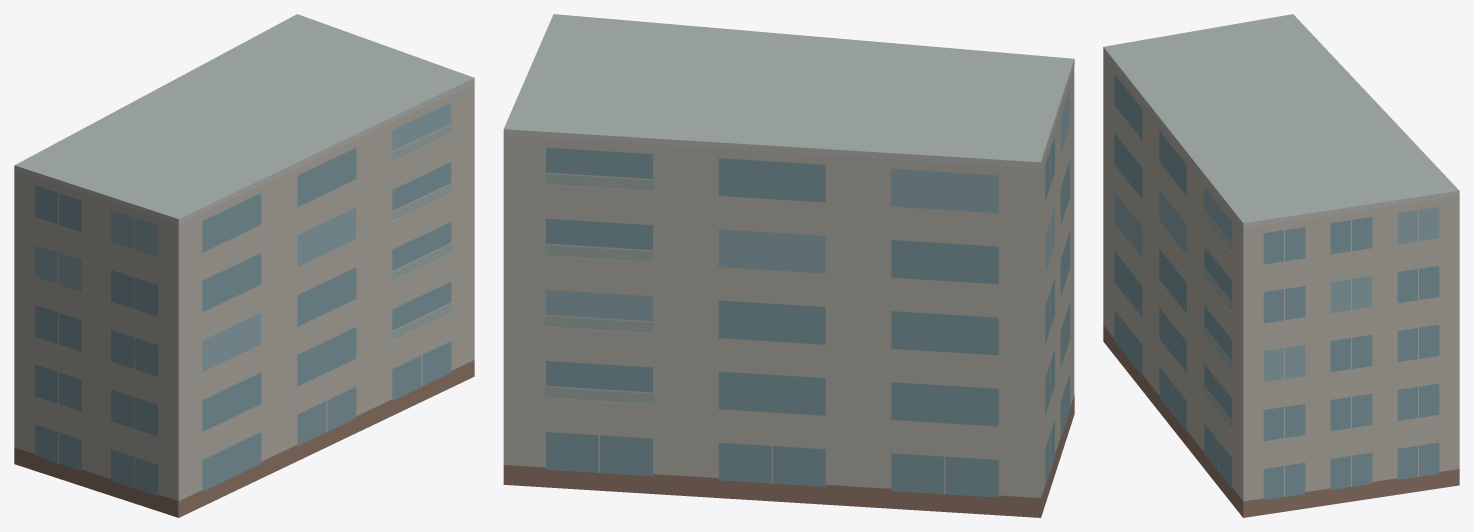
Rendered from survey-upis-32763371.glb.
3 views of the same model, side by side, from view 1: azimuth 30°, elevation 25°; view 2: azimuth 150°, elevation 25°; view 3: azimuth 270°, elevation 25° (orthographic). The views are drawn at different scales.
Parts seen in each view (by area): view 1: survey-upis-32763371.tmp; view 2: survey-upis-32763371.tmp; view 3: survey-upis-32763371.tmp.
Boxes of the visible parts, box(x1,y1,x2,y2) form: survey-upis-32763371.tmp: box(14, 14, 474, 517); survey-upis-32763371.tmp: box(503, 14, 1074, 517); survey-upis-32763371.tmp: box(1103, 14, 1459, 517).
Size of the model in its own units: 21.64 by 14.2 by 15.57.
